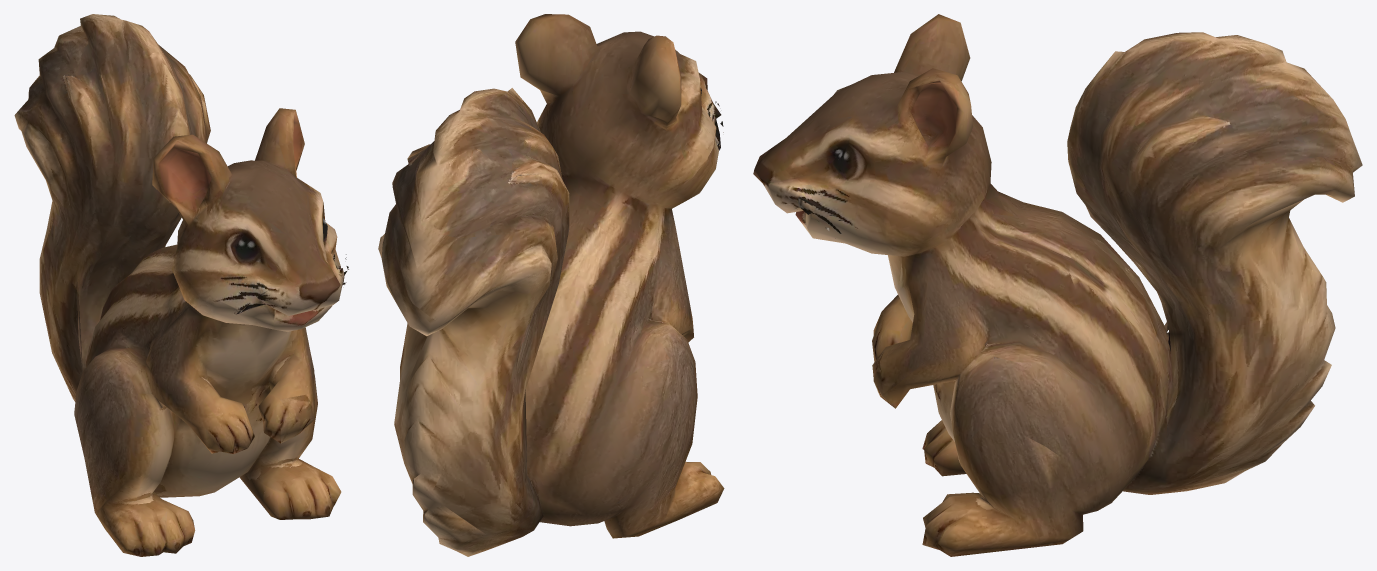
Rendered from gourd-posed-squirrel.glb.
The picture shows the model from 3 angles, left to right: view 1: azimuth 30°, elevation 25°; view 2: azimuth 150°, elevation 25°; view 3: azimuth 270°, elevation 25°; orthographic projection. The views are drawn at different scales.
Parts seen in each view (by area): view 1: animal-squirrel_Idle; view 2: animal-squirrel_Idle; view 3: animal-squirrel_Idle.
Part boxes in pixels (x1,y1,x2,y2): animal-squirrel_Idle: (14, 14, 348, 556); animal-squirrel_Idle: (378, 14, 724, 556); animal-squirrel_Idle: (753, 14, 1362, 556).
Size of the model in its own units: 0.1351 by 0.2497 by 0.2903.
1 material, 1 textured.
